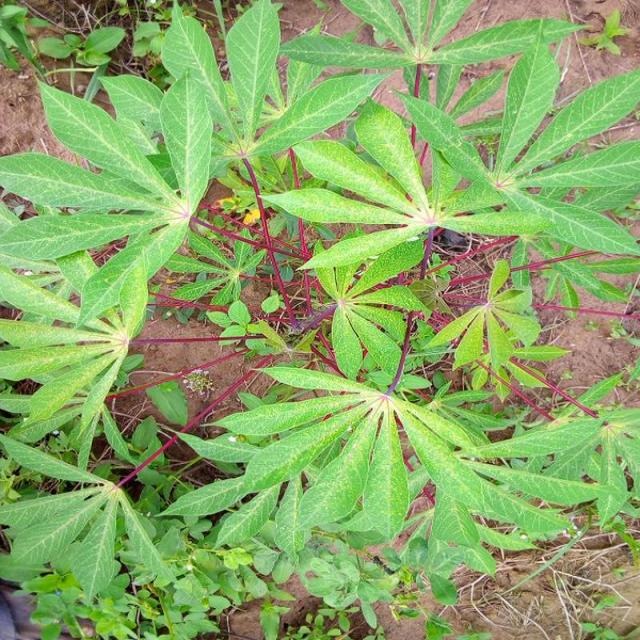cassava leaf: (0, 0, 638, 627)
